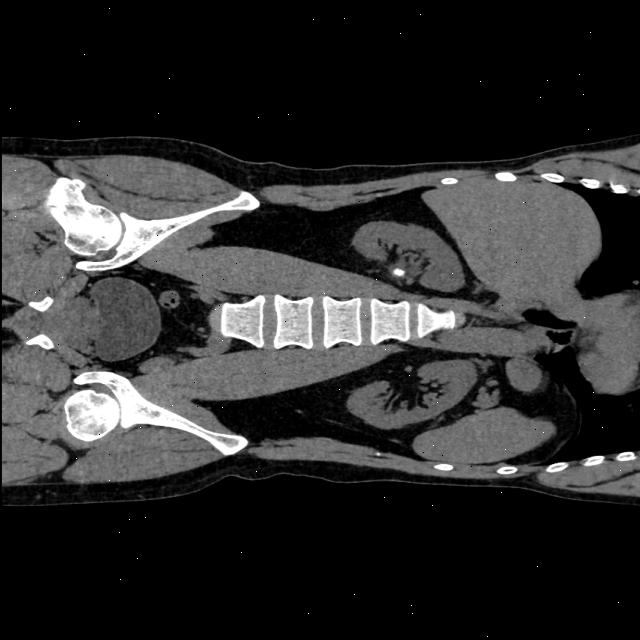kidneystone: (392, 269, 405, 276)
